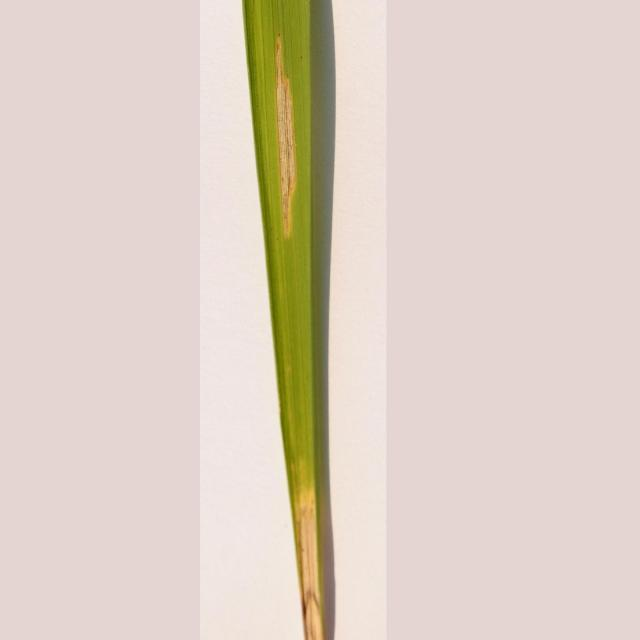Bacterial_Leaf_Blight: (244, 34, 323, 263), (270, 470, 374, 640)
